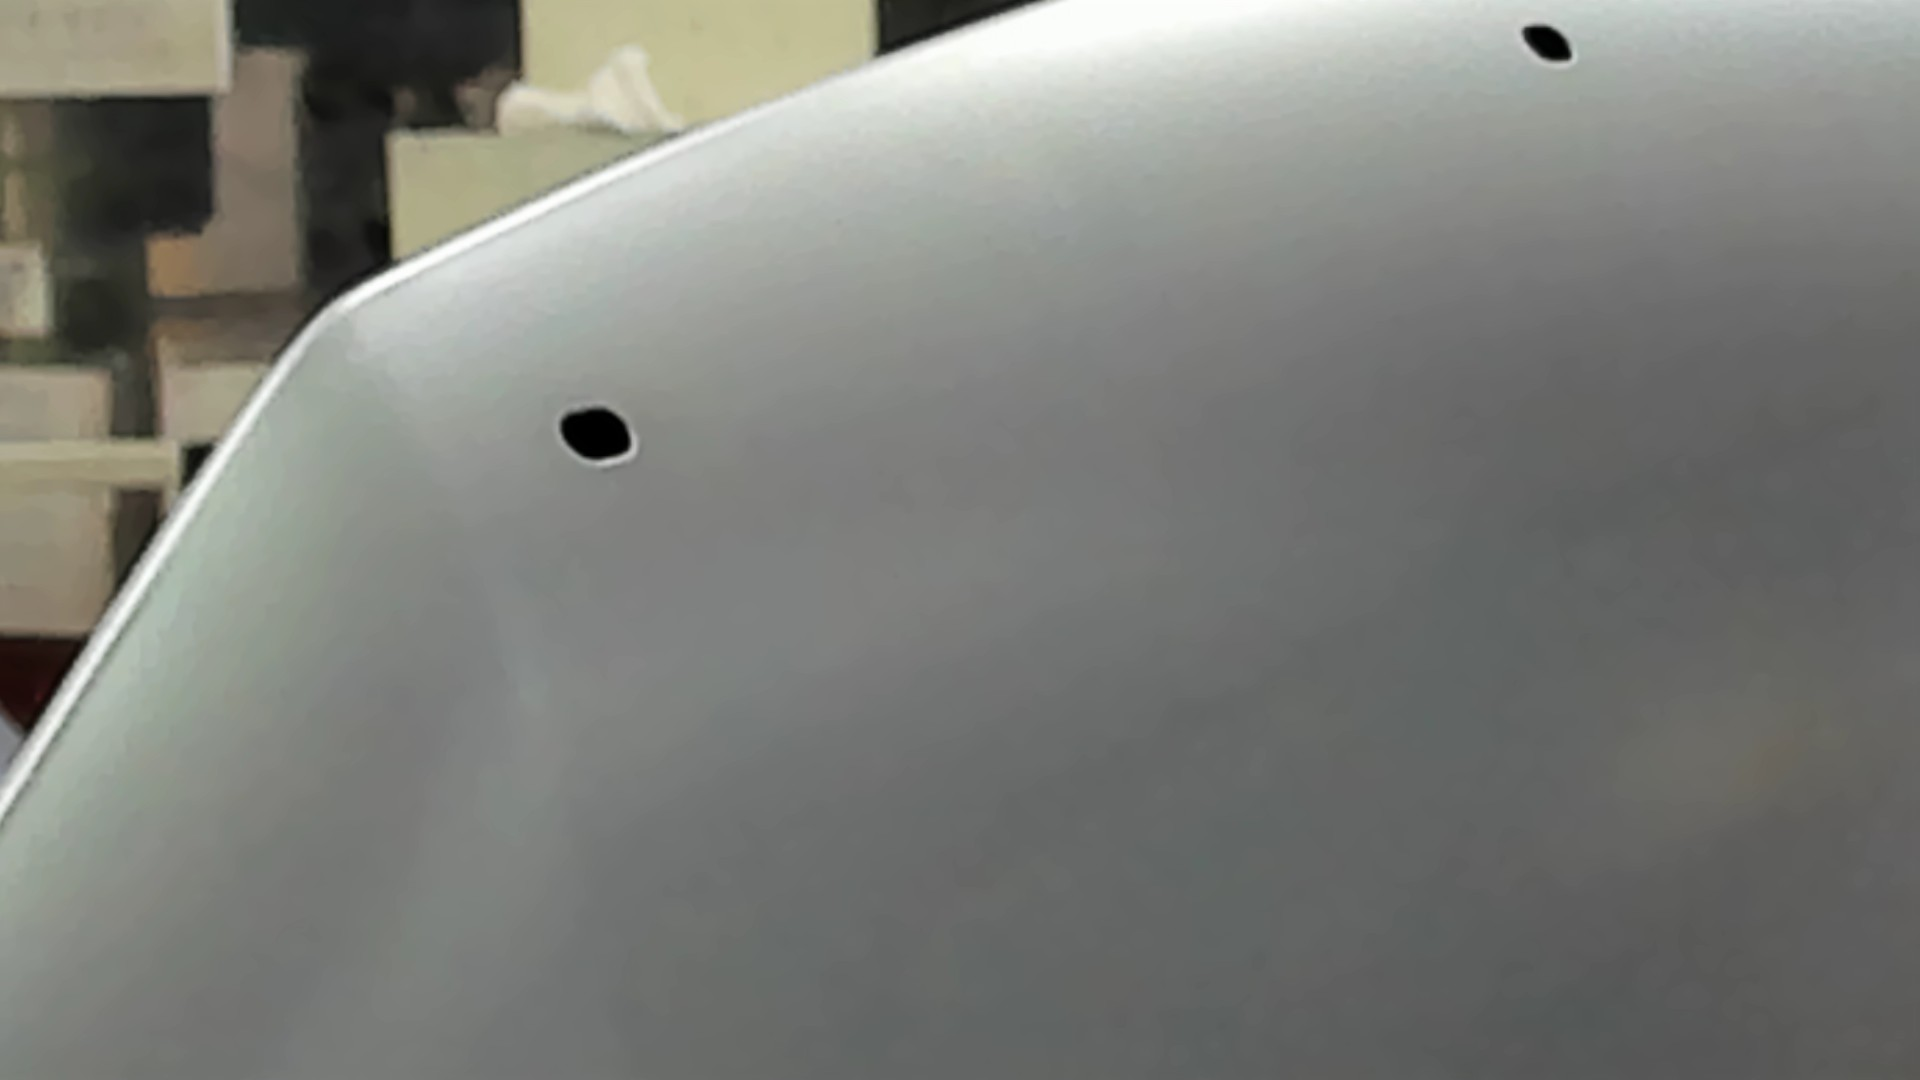amorfo: (549, 400, 646, 469), (1520, 20, 1577, 69)
